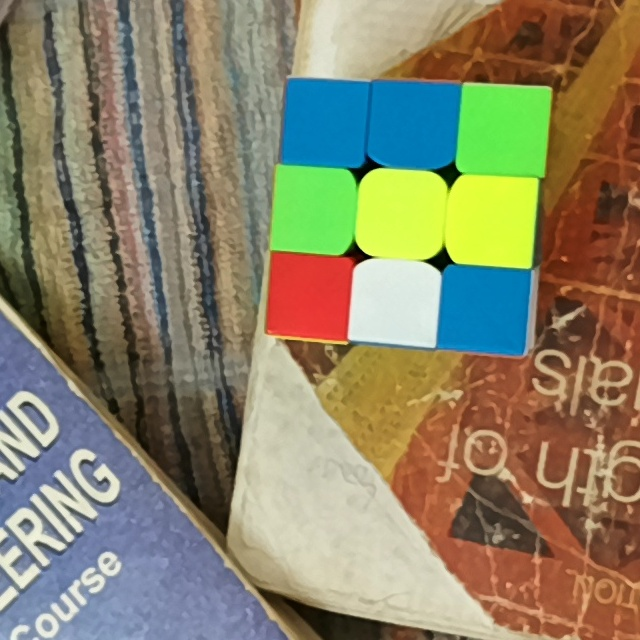tile: (464, 94, 544, 164), (447, 275, 523, 347), (377, 89, 453, 157), (458, 184, 530, 254), (356, 269, 432, 335), (289, 87, 361, 156), (274, 263, 345, 330), (277, 175, 346, 243), (366, 179, 437, 245)
